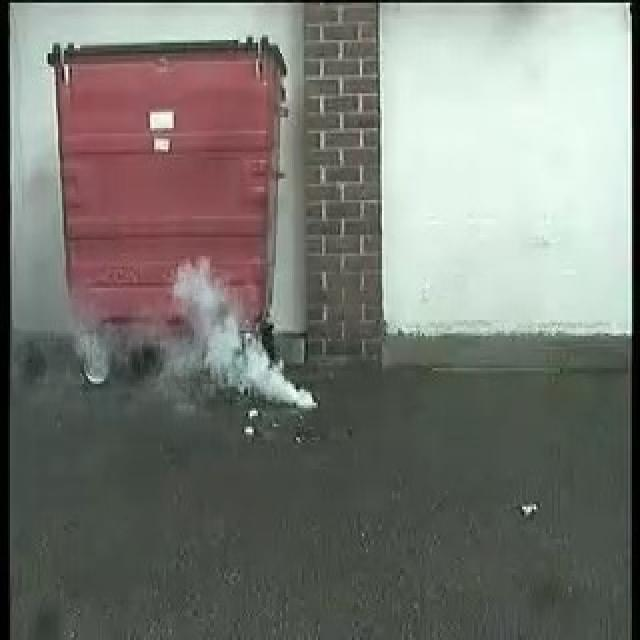smoke: (172, 261, 313, 406)
